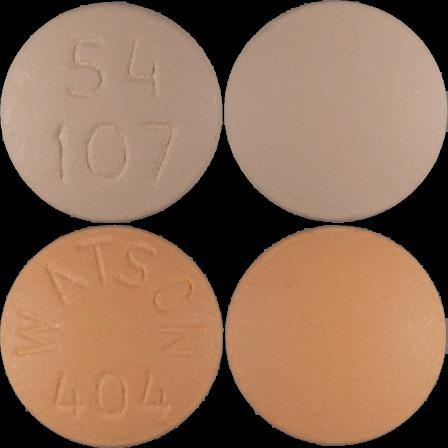68151-0639: (0, 0, 224, 224)
